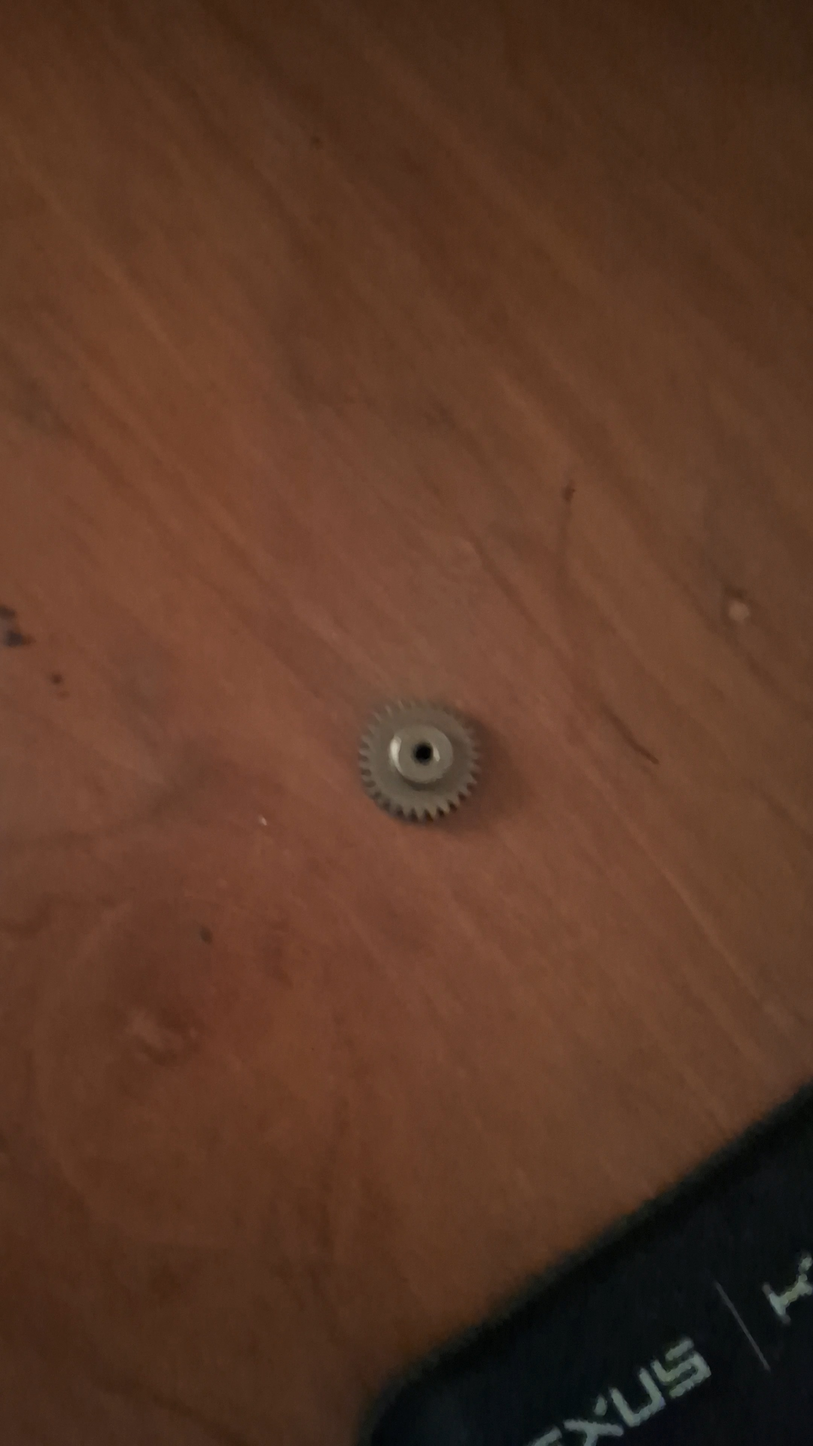spur gear: (360, 702, 478, 821)
